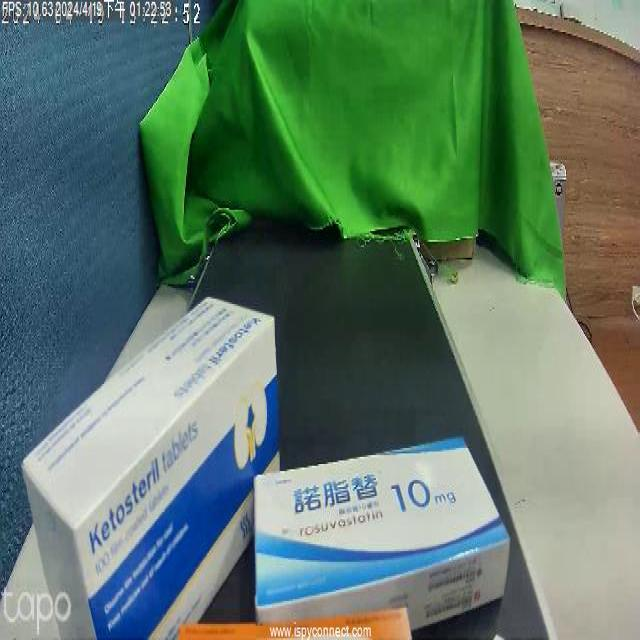box: (79, 305, 282, 611), (262, 449, 493, 584)
